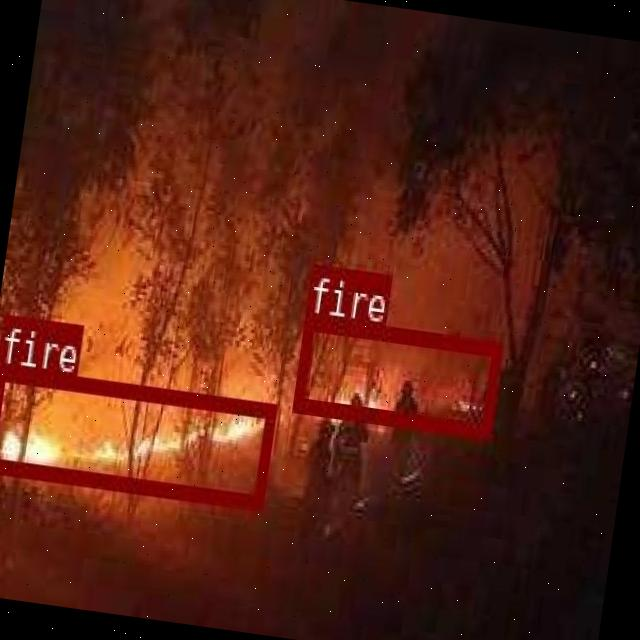fire: (0, 362, 275, 506), (290, 314, 502, 436)
